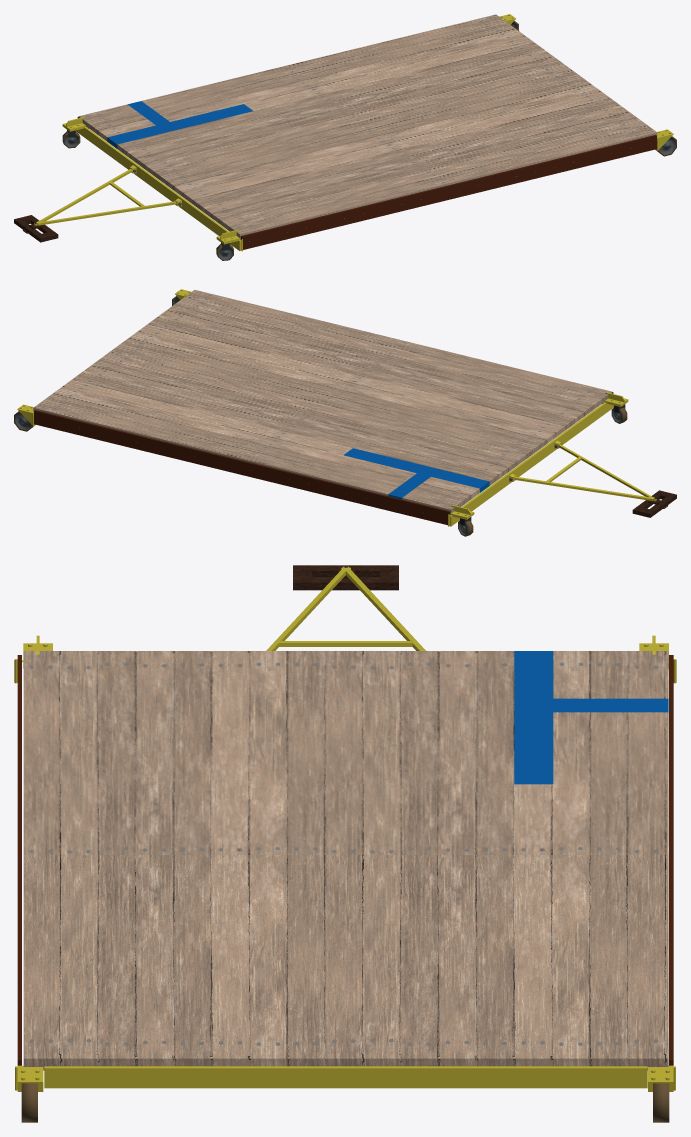
The model's file is edap-helicopter-dolly_LOD00.gltf.
3 renders of one model, top to bottom at view 1: azimuth 30°, elevation 25°; view 2: azimuth 150°, elevation 25°; view 3: azimuth 270°, elevation 25°, orthographic. The views are drawn at different scales.
Visible parts, largest first — view 1: platform, side frame, front frame, shackle, rusted metal thingie; view 2: platform, side frame.001, front frame, shackle, rusted metal thingie; view 3: platform, rear frame, shackle, rusted metal thingie, side frame, side frame.001.
Boxes of the visible parts, x1,y1,x2,y2 form: platform: (78, 14, 657, 237); side frame: (240, 135, 656, 249); front frame: (75, 127, 242, 251); shackle: (34, 169, 176, 225); rusted metal thingie: (14, 215, 58, 242); platform: (33, 290, 612, 513); side frame.001: (34, 410, 450, 525); front frame: (448, 393, 613, 526); shackle: (514, 444, 656, 501); rusted metal thingie: (632, 490, 676, 517); platform: (23, 651, 668, 1070); rear frame: (44, 1066, 647, 1088); shackle: (266, 566, 425, 650); rusted metal thingie: (293, 565, 398, 590); side frame: (17, 655, 21, 1065); side frame.001: (669, 655, 673, 1065).
Bounding box in the file's own units: 5 × 0.2215 × 2.51.
